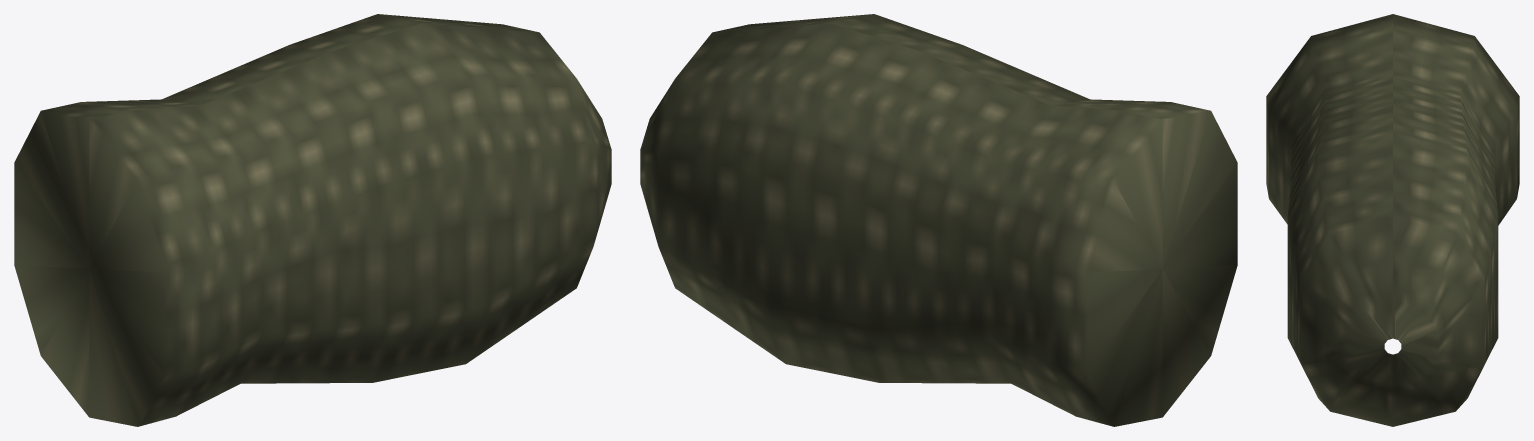
File: dass_lod1.glb
3 views of the same model, side by side, from view 1: azimuth 30°, elevation 25°; view 2: azimuth 150°, elevation 25°; view 3: azimuth 270°, elevation 25° (orthographic). The views are drawn at different scales.
Visible parts, largest first — view 1: dass_glove; view 2: dass_glove; view 3: dass_glove.
Part boxes in pixels (x1,y1,x2,y2): dass_glove: (14,14,611,426); dass_glove: (640,14,1237,426); dass_glove: (1266,14,1519,426).
Size of the model in its own units: 0.166 by 0.105 by 0.086.
Materials: 1 (1 with a texture image).
